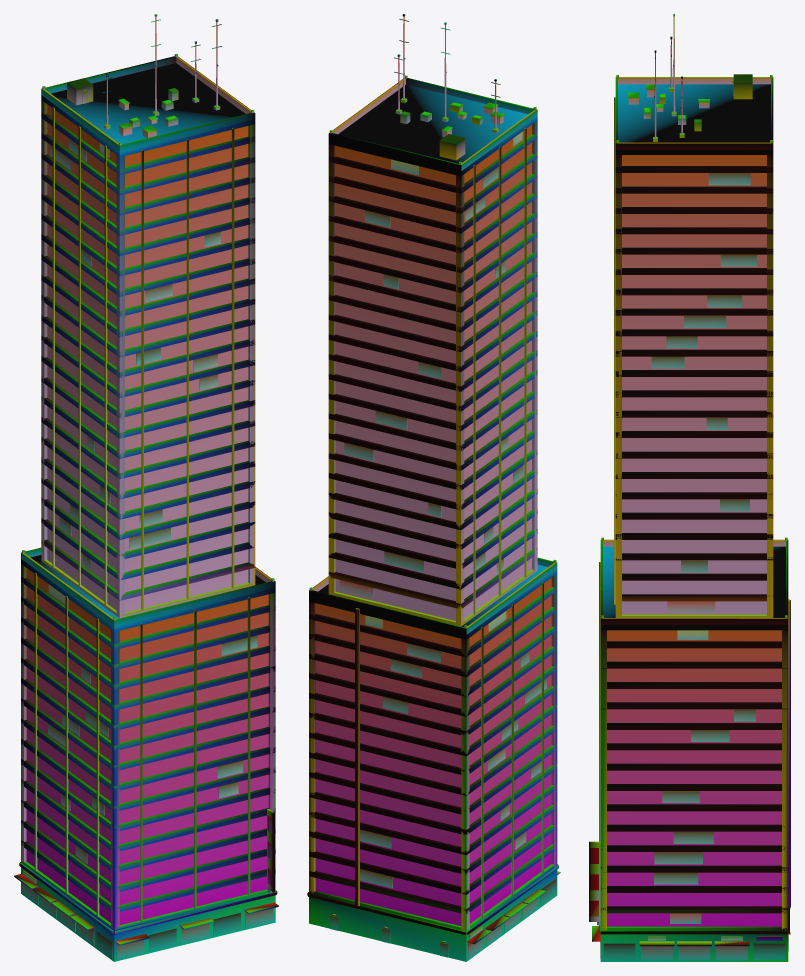
File: Tower_Pad_V9.fbx
3 views of the same model, side by side, from view 1: azimuth 30°, elevation 25°; view 2: azimuth 150°, elevation 25°; view 3: azimuth 270°, elevation 25° (orthographic). The views are drawn at different scales.
Visible parts, largest first — view 1: Tower_Pad_V9_LOD0; view 2: Tower_Pad_V9_LOD0; view 3: Tower_Pad_V9_LOD0.
Boxes of the visible parts, bbox=[...] form: Tower_Pad_V9_LOD0: bbox=[14, 14, 278, 961]; Tower_Pad_V9_LOD0: bbox=[307, 14, 560, 961]; Tower_Pad_V9_LOD0: bbox=[589, 14, 790, 961].
Size of what is drawn, in the model's own units: 32.8 by 160 by 32.31.
